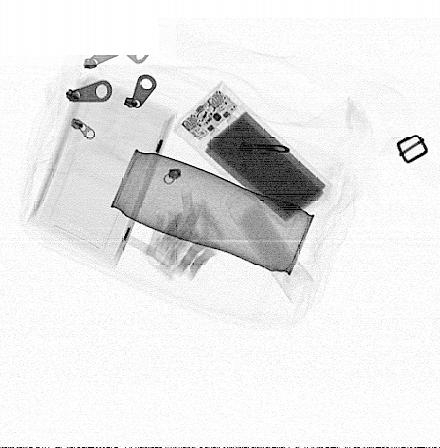Powerbank: (175, 81, 332, 227)
